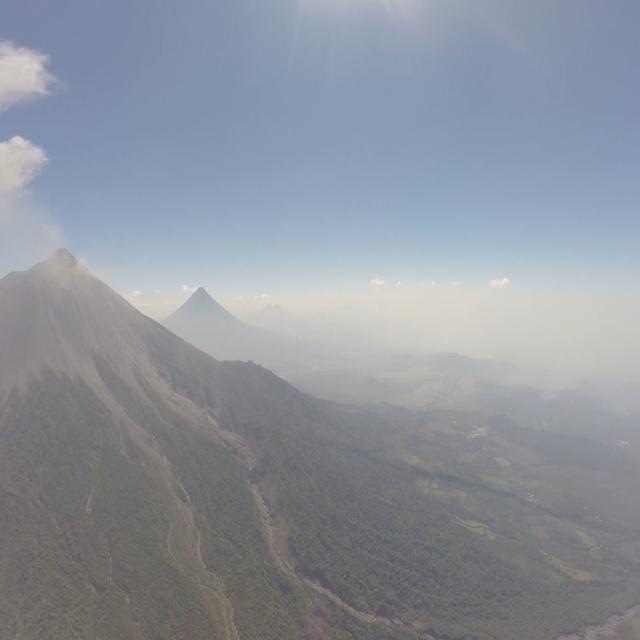Plume: (0, 38, 63, 120), (0, 134, 56, 226)
Summit: (38, 246, 85, 276)
